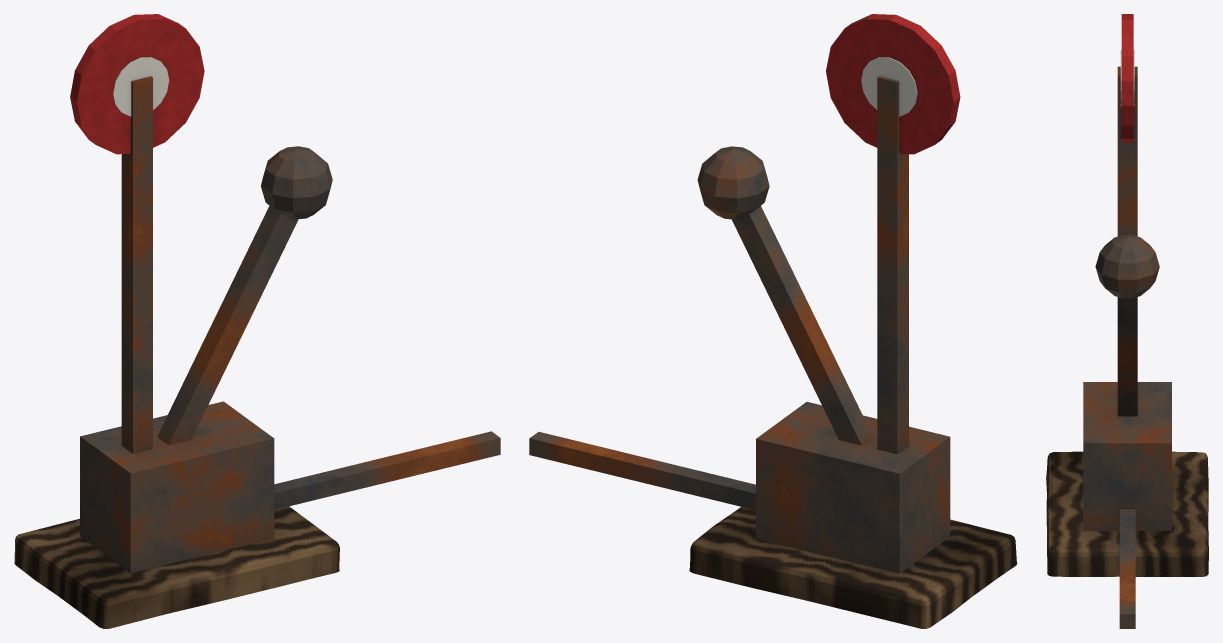
File: mine_rail_switch.glb
The picture shows the model from 3 angles, left to right: view 1: azimuth 30°, elevation 25°; view 2: azimuth 150°, elevation 25°; view 3: azimuth 270°, elevation 25°; orthographic projection. The views are drawn at different scales.
Parts seen in each view (by area): view 1: mine_rail_switch; view 2: mine_rail_switch; view 3: mine_rail_switch.
Part boxes in pixels (bbox=[...]): mine_rail_switch: bbox=[14, 14, 500, 628]; mine_rail_switch: bbox=[529, 14, 1017, 628]; mine_rail_switch: bbox=[1046, 14, 1208, 628].
Size of the model in its own units: 1.1 by 1.34 by 0.4049.
Materials: 4 (4 with a texture image).
